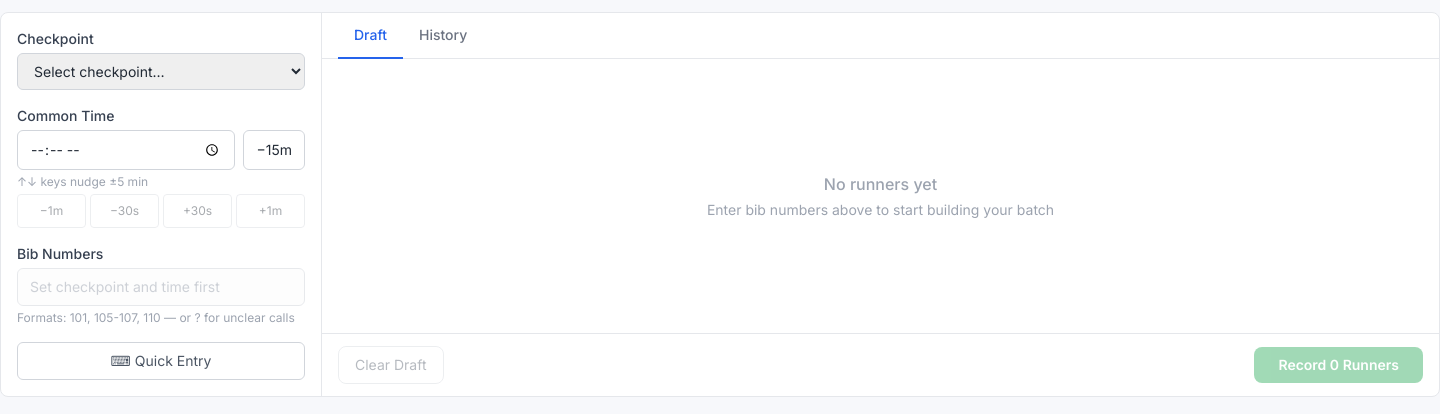
Test case: BatchEntryLayout › adds a runner to the draft when bib is entered
Select "CP1 — Start" in the dropdown labelled "Checkpoint". click: [161, 72]
box: [17,53,305,90]
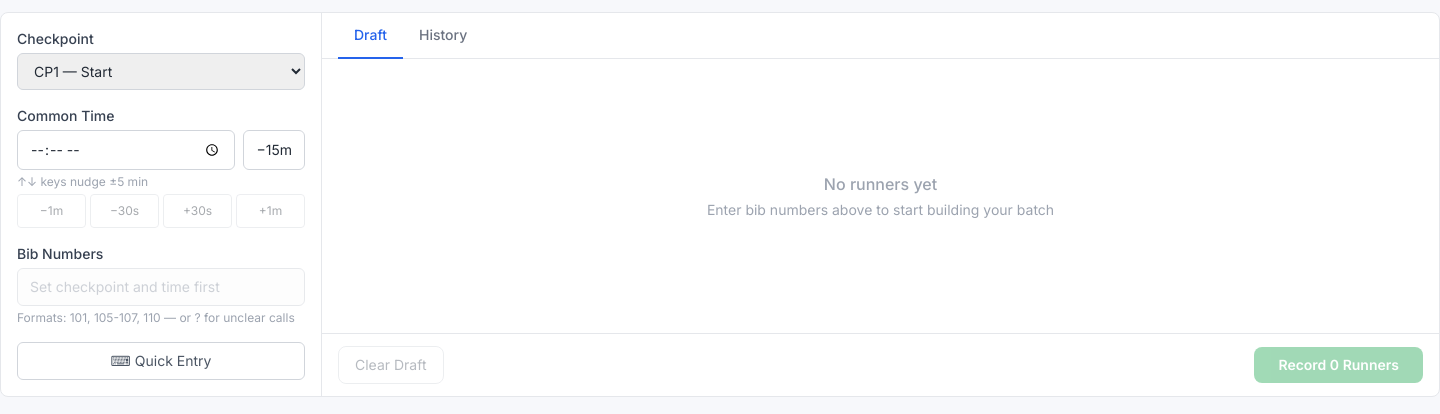
Type "10:00" into the time field labelled "Common Time". click: [126, 150]
box: [17,130,236,170]
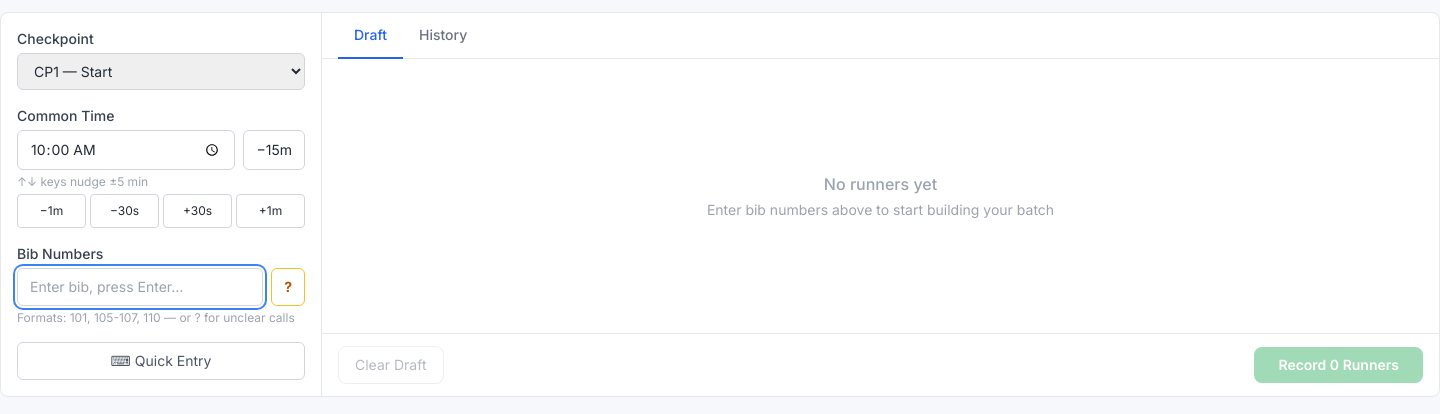
Type "42" into the field labelled "Bib Numbers". click: [140, 287]
box: [17,268,263,306]
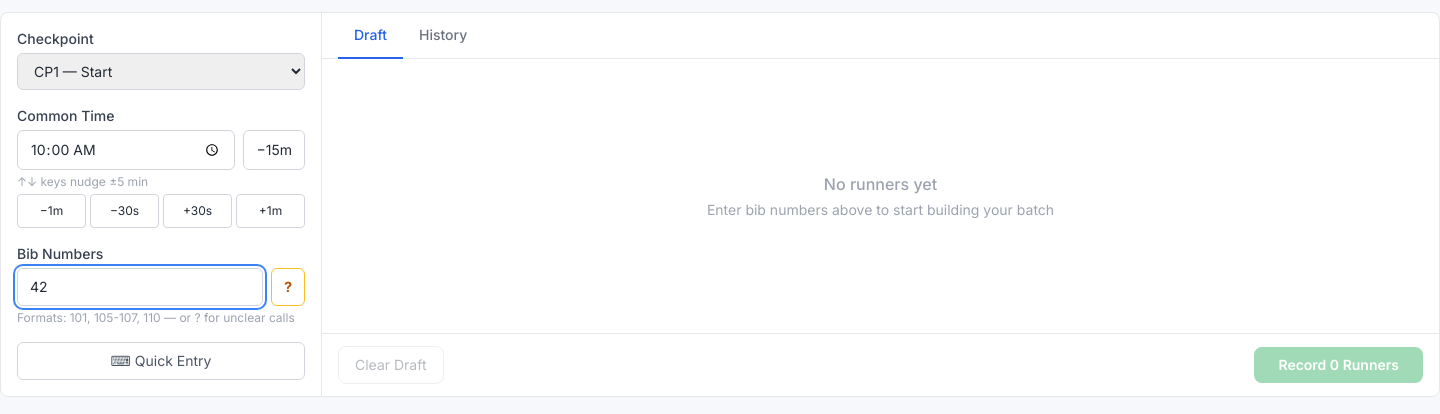
Press Enter in the field labelled "Bib Numbers", box [17,268,263,306]
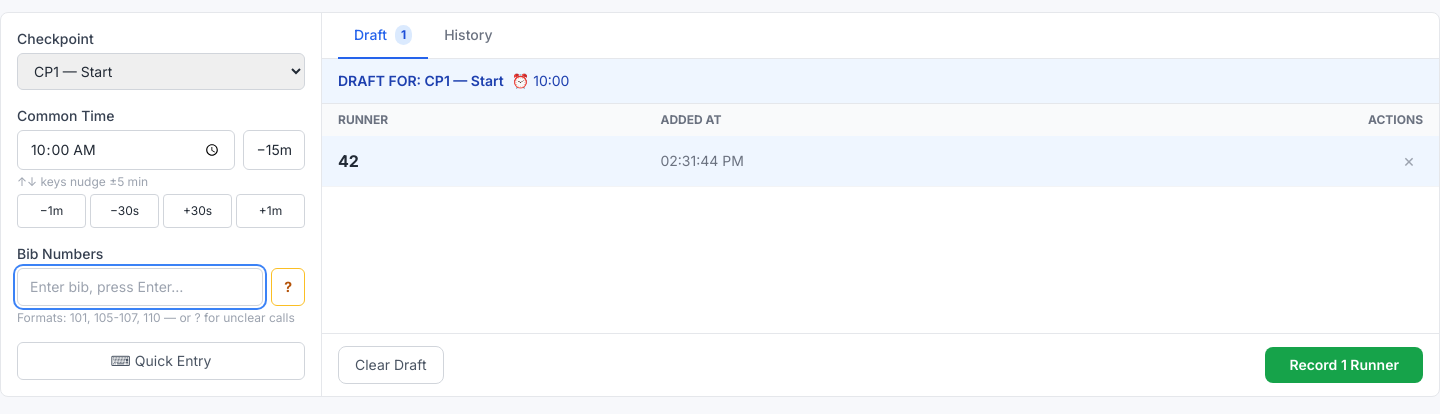
Expected: the text "42" is shown, [322,136,644,186]
